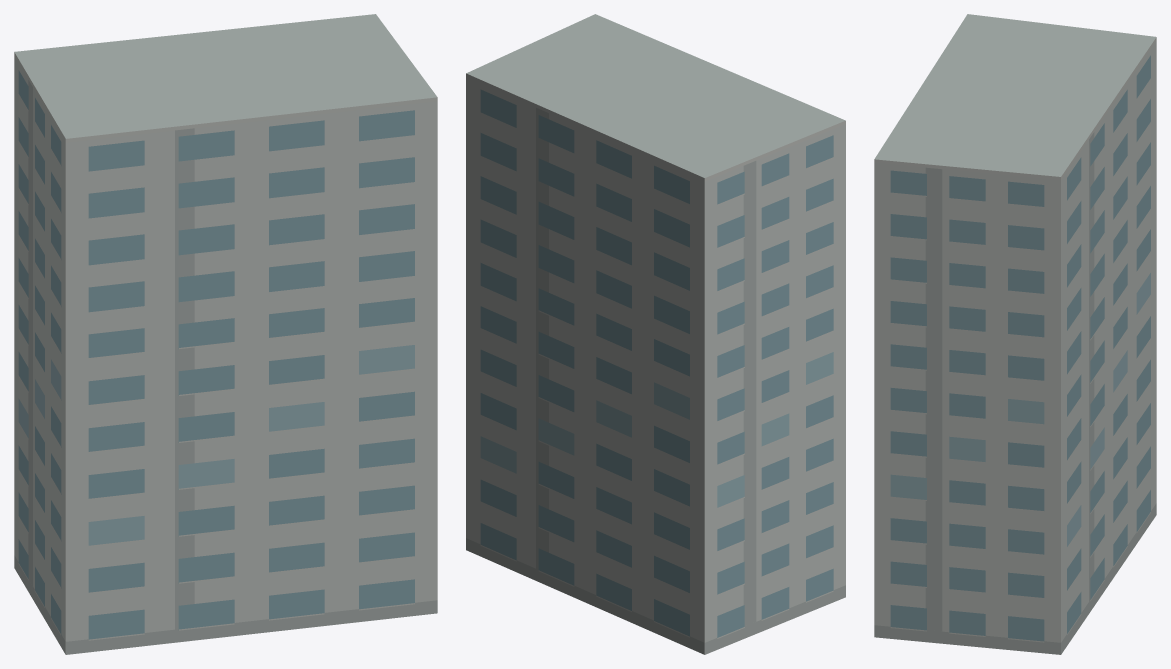
The model's file is residential-69e7f4d1-60cb-4ecd-853f-5a5414959480.glb.
The picture shows the model from 3 angles, left to right: view 1: azimuth 30°, elevation 25°; view 2: azimuth 150°, elevation 25°; view 3: azimuth 270°, elevation 25°; orthographic projection. The views are drawn at different scales.
Visible parts, largest first — view 1: residential-69e7f4d1-60cb-4ecd-853f-5a5414959480.tmp; view 2: residential-69e7f4d1-60cb-4ecd-853f-5a5414959480.tmp; view 3: residential-69e7f4d1-60cb-4ecd-853f-5a5414959480.tmp.
Boxes of the visible parts, x1,y1,x2,y2 form: residential-69e7f4d1-60cb-4ecd-853f-5a5414959480.tmp: [14, 14, 437, 654]; residential-69e7f4d1-60cb-4ecd-853f-5a5414959480.tmp: [466, 14, 845, 654]; residential-69e7f4d1-60cb-4ecd-853f-5a5414959480.tmp: [874, 14, 1156, 654].
Size of the model in its own units: 24.55 by 33.55 by 17.98.
